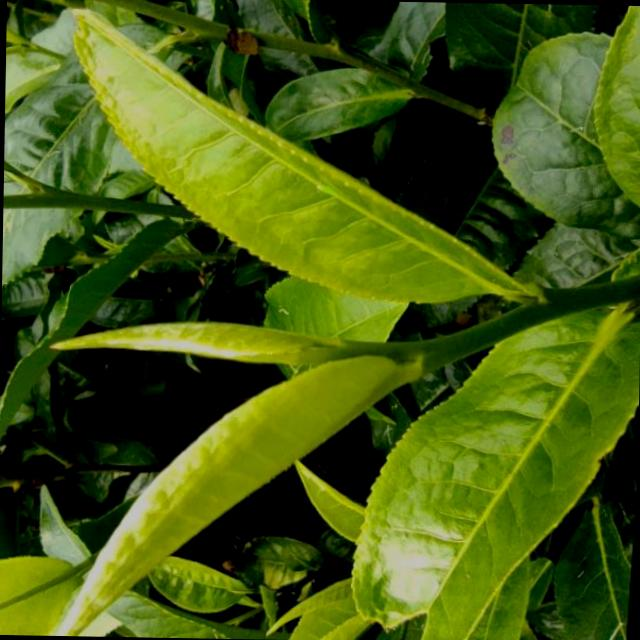Stem: (413, 339, 447, 374)
